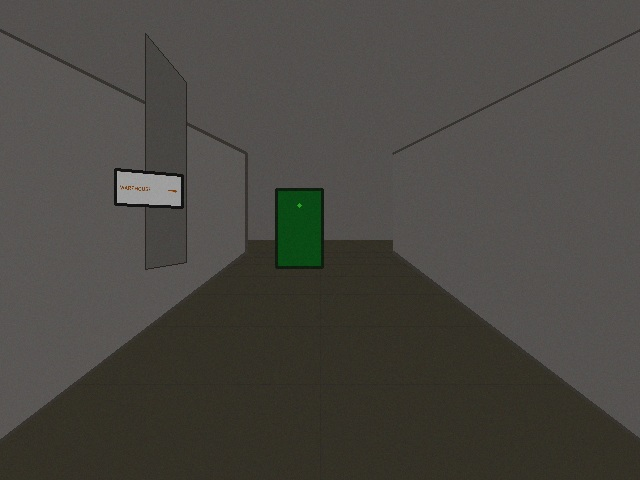charging_station: (276, 189, 322, 267)
directional_sign: (115, 169, 182, 207)
